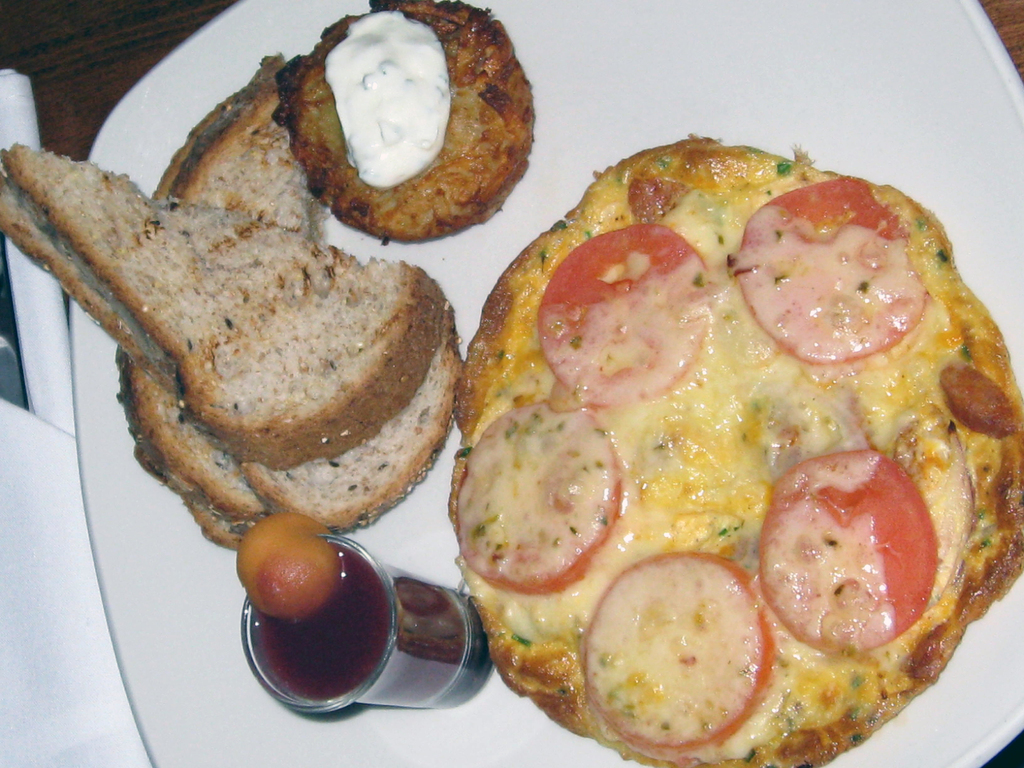Pizza: (443, 123, 1023, 767)
